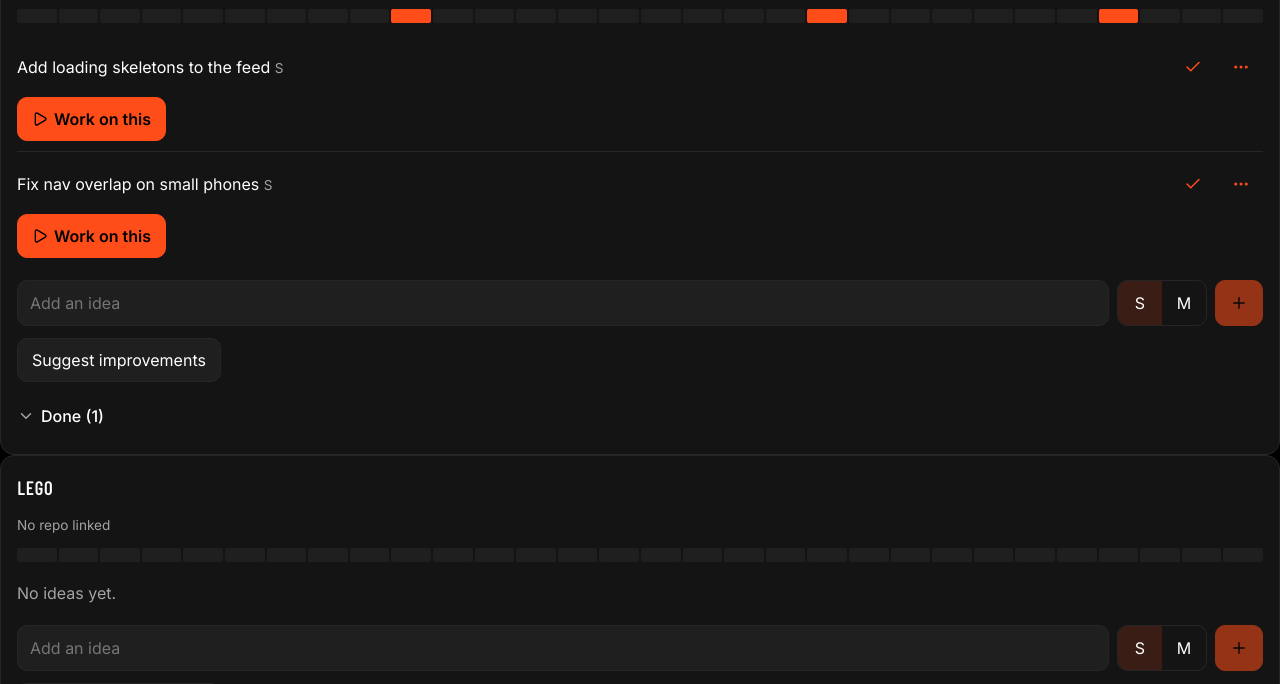
ProjectsList › Suggest improvements queues a Mac launch
The width and height of the screenshot is (1280, 684).
(page scrolled)
Step 1. Click the button "Suggest improvements" below "Fix nav overlap on small phones" → [119, 360], box [17, 338, 221, 382]
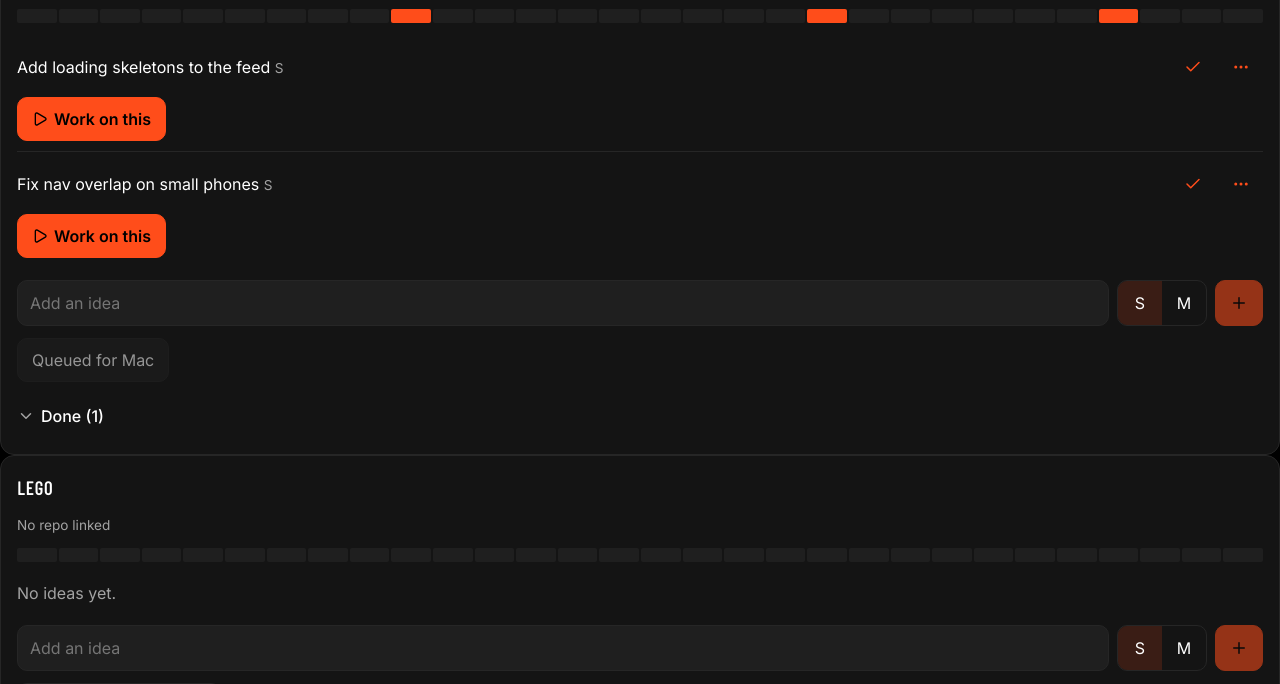
Check: the button "Queued for Mac" is disabled, box [17, 338, 169, 382]
